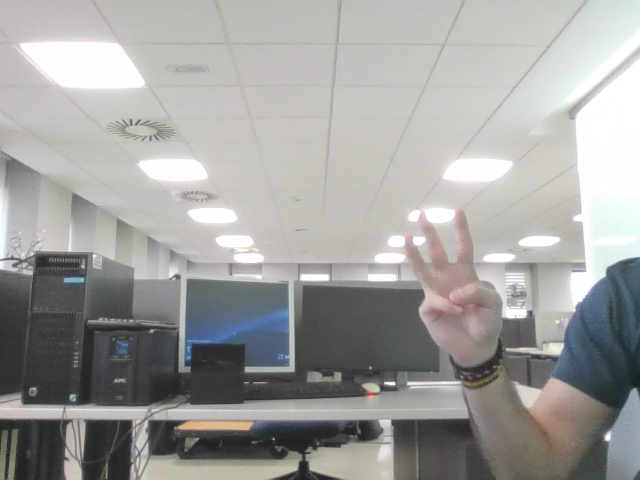3Dedos: (409, 219, 490, 320)
